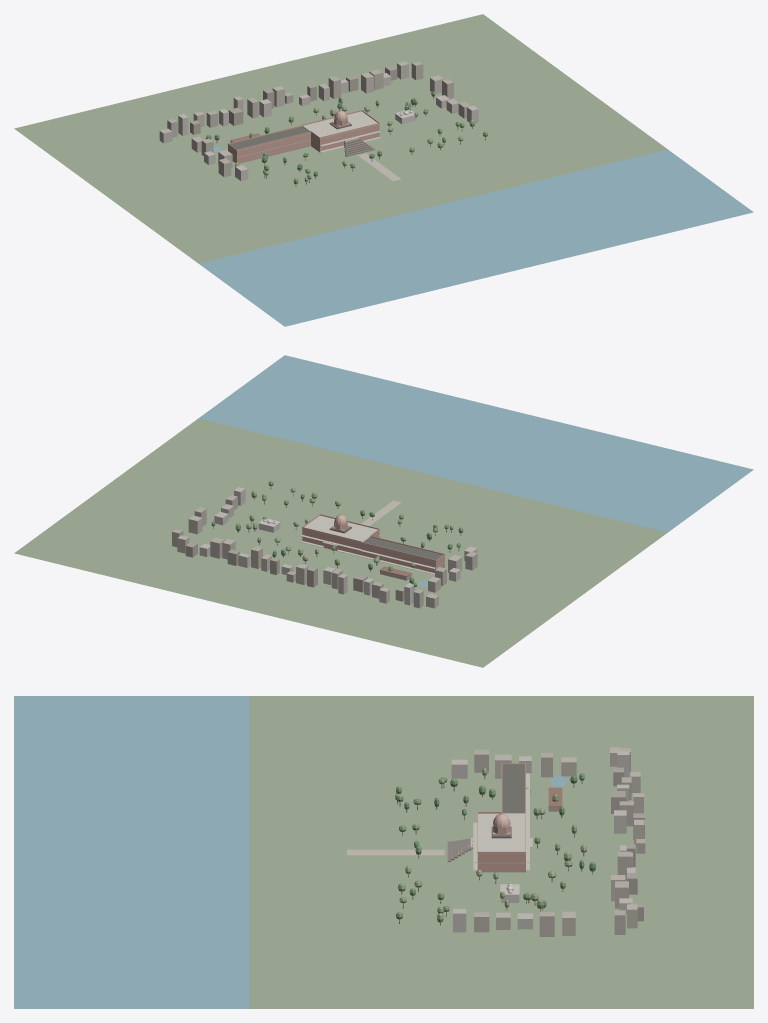
Rendered from ahsan-manzil-lod1.glb.
3 renders of one model, top to bottom at view 1: azimuth 30°, elevation 25°; view 2: azimuth 150°, elevation 25°; view 3: azimuth 270°, elevation 25°, orthographic. The views are drawn at different scales.
Visible parts, largest first — view 1: Site_Ground, Site_River, Site_Context_Blocks, Site_Trees, Rangmahal_FF, Andarmahal, RoofDeck, Parapet; view 2: Site_Ground, Site_River, Site_Context_Blocks, Site_Trees, Rangmahal_FF, Andarmahal, RoofDeck, Veranda_N, Parapet; view 3: Site_Ground, Site_River, Site_Context_Blocks, Site_Trees, Rangmahal_FF, RoofDeck, Site_Approach.
Part boxes in pixels (left/top/right/bottom): Site_Ground: left=14, top=14, right=667, bottom=263; Site_River: left=199, top=149, right=753, bottom=326; Site_Context_Blocks: left=159, top=61, right=478, bottom=180; Site_Trees: left=205, top=91, right=487, bottom=186; Rangmahal_FF: left=302, top=111, right=379, bottom=145; Andarmahal: left=228, top=133, right=310, bottom=162; RoofDeck: left=230, top=122, right=351, bottom=149; Parapet: left=227, top=110, right=379, bottom=150; Site_Ground: left=14, top=418, right=667, bottom=667; Site_River: left=199, top=355, right=753, bottom=532; Site_Context_Blocks: left=172, top=487, right=477, bottom=608; Site_Trees: left=211, top=481, right=463, bottom=589; Rangmahal_FF: left=302, top=515, right=379, bottom=549; Andarmahal: left=361, top=543, right=444, bottom=572; RoofDeck: left=329, top=526, right=442, bottom=560; Veranda_N: left=301, top=535, right=435, bottom=574; Parapet: left=302, top=514, right=445, bottom=561; Site_Ground: left=249, top=696, right=753, bottom=1008; Site_River: left=14, top=696, right=249, bottom=1008; Site_Context_Blocks: left=451, top=747, right=645, bottom=936; Site_Trees: left=395, top=768, right=595, bottom=925; Rangmahal_FF: left=477, top=813, right=525, bottom=862; RoofDeck: left=491, top=765, right=525, bottom=838; Site_Approach: left=347, top=849, right=444, bottom=855.
Bounding box in the file's own units: 440 × 27.13 × 440.
